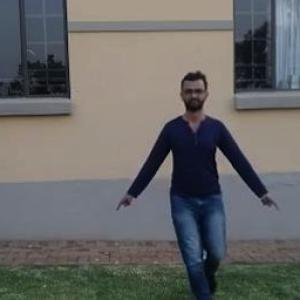land: (130, 84, 263, 285)
